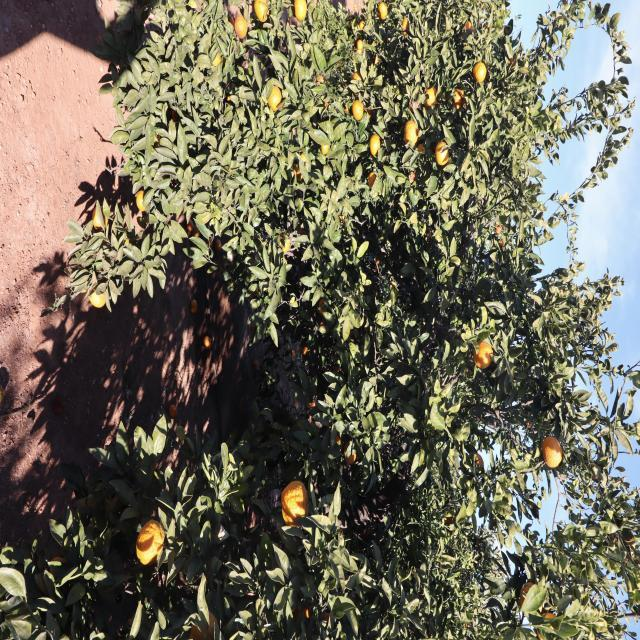Jeruk Sudah Matang: (476, 330, 534, 361), (516, 473, 566, 508), (428, 77, 471, 104), (336, 146, 378, 168), (13, 386, 42, 411), (613, 80, 640, 104), (83, 358, 114, 377), (131, 254, 162, 273), (99, 276, 131, 294), (182, 491, 218, 506), (208, 531, 239, 548), (283, 534, 311, 552), (123, 218, 147, 238), (138, 191, 170, 205), (60, 153, 87, 169), (12, 228, 41, 242), (19, 163, 42, 180), (0, 332, 22, 349), (443, 281, 466, 297), (0, 372, 26, 386), (88, 174, 114, 188), (84, 202, 109, 216), (0, 250, 20, 265), (49, 417, 70, 430), (38, 275, 57, 286), (18, 275, 32, 282), (160, 267, 163, 270)
